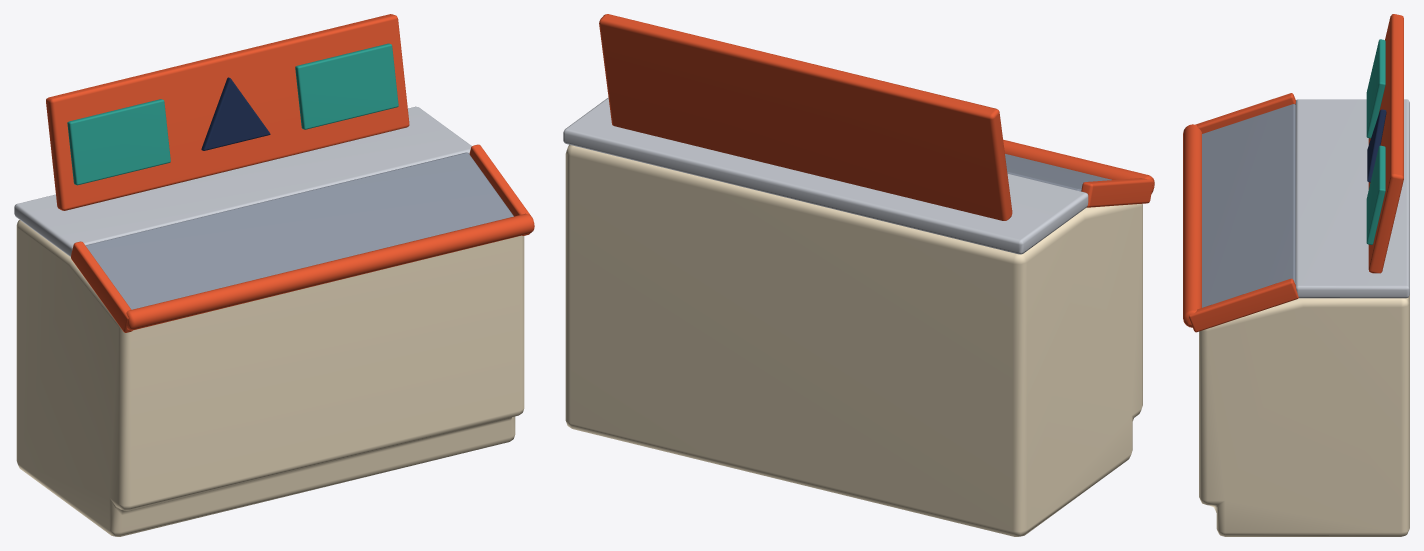
Rendered from Console_Pilot.glb.
3 views of the same model, side by side, from view 1: azimuth 30°, elevation 25°; view 2: azimuth 150°, elevation 25°; view 3: azimuth 270°, elevation 25° (orthographic). The views are drawn at different scales.
Visible parts, largest first — view 1: Console_Pilot.Body, Console_Pilot.Panel, Console_Pilot.Board, Console_Pilot.Top, Console_Pilot.Rim, Console_Pilot.Screen_R, Console_Pilot.Screen_L, Console_Pilot.Icon; view 2: Console_Pilot.Body, Console_Pilot.Board, Console_Pilot.Top, Console_Pilot.Rim, Console_Pilot.Panel; view 3: Console_Pilot.Body, Console_Pilot.Top, Console_Pilot.Panel, Console_Pilot.Rim, Console_Pilot.Board, Console_Pilot.Screen_R, Console_Pilot.Screen_L, Console_Pilot.Icon.
Boxes of the visible parts, <box> form: Console_Pilot.Body: <box>16,220,524,536</box>; Console_Pilot.Panel: <box>85,152,513,309</box>; Console_Pilot.Board: <box>46,14,409,210</box>; Console_Pilot.Top: <box>14,106,471,256</box>; Console_Pilot.Rim: <box>71,144,534,332</box>; Console_Pilot.Screen_R: <box>295,43,398,129</box>; Console_Pilot.Screen_L: <box>67,99,170,185</box>; Console_Pilot.Icon: <box>201,77,270,150</box>; Console_Pilot.Body: <box>565,144,1142,536</box>; Console_Pilot.Board: <box>599,14,1012,220</box>; Console_Pilot.Top: <box>563,97,1088,254</box>; Console_Pilot.Rim: <box>1003,139,1154,207</box>; Console_Pilot.Panel: <box>1005,154,1111,191</box>; Console_Pilot.Body: <box>1199,295,1409,536</box>; Console_Pilot.Top: <box>1295,99,1409,298</box>; Console_Pilot.Panel: <box>1202,104,1295,307</box>; Console_Pilot.Rim: <box>1183,93,1298,332</box>; Console_Pilot.Board: <box>1368,14,1403,273</box>; Console_Pilot.Screen_R: <box>1366,145,1385,244</box>; Console_Pilot.Screen_L: <box>1366,39,1385,138</box>; Console_Pilot.Icon: <box>1367,109,1386,182</box>.
Size of the model in its own units: 1.29 by 1.11 by 0.6485.
Materials: 1 (1 with a texture image).
